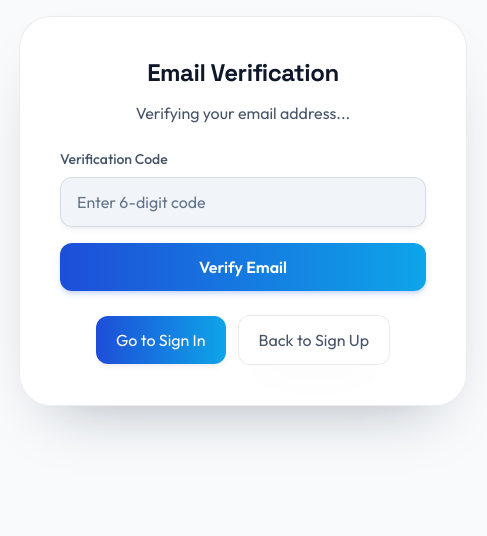
Test case: Verify Email Page › falls back to the generic failure copy when verification fails with a non-Error value
Type "000000" into the field labelled "Verification Code" at (243, 202), box [60,177,426,227]
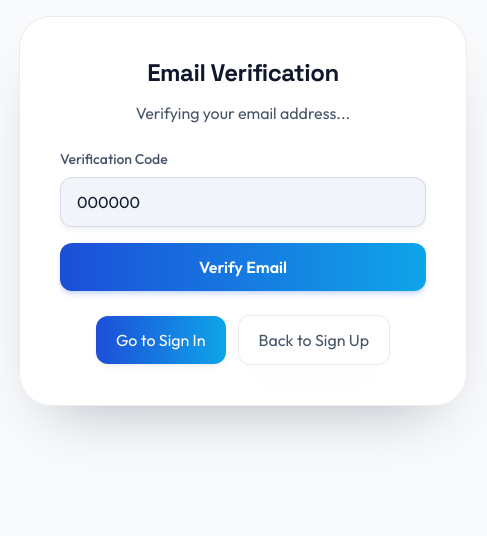
Submit the form "Verification Code Verify Email", box [60,149,426,291]
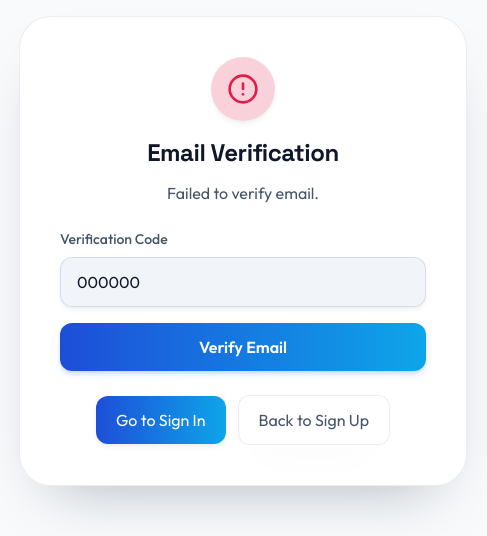
Now the text "Failed to verify email." is shown, box [167,183,319,203]
